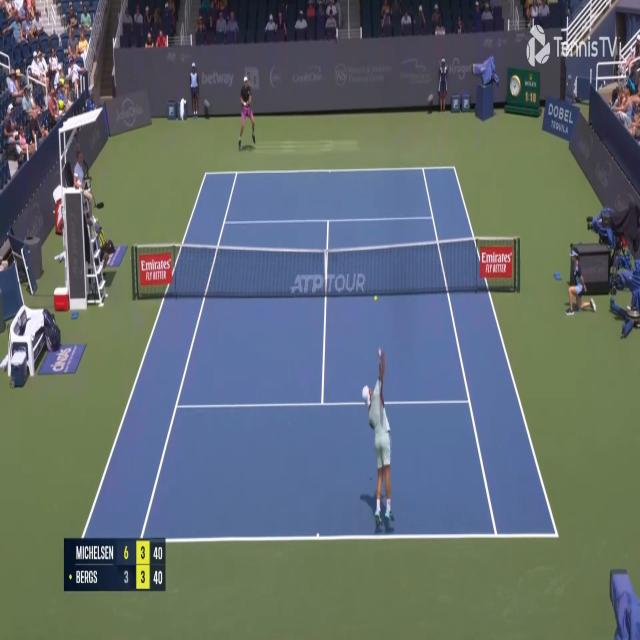tennis-player: (360, 342, 395, 524), (237, 74, 257, 150)
